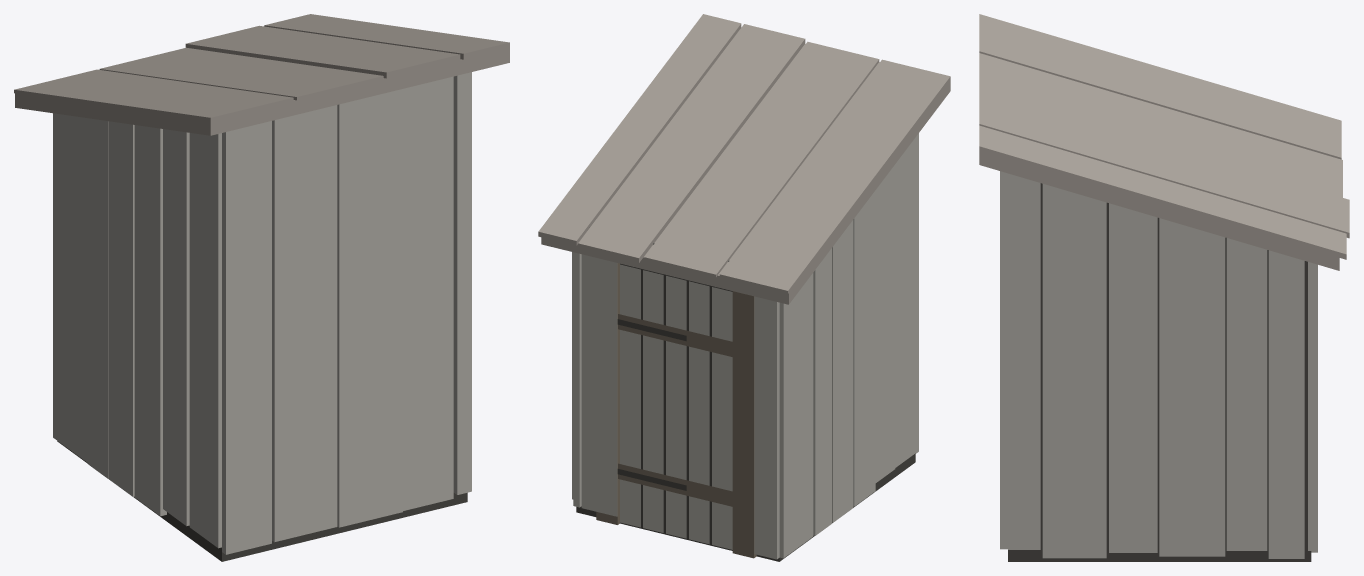
File: recon_1835_blk_indiana_north_wolcott_a3_08__inferred_1835.glb
3 renders of one model, left to right at view 1: azimuth 30°, elevation 25°; view 2: azimuth 150°, elevation 25°; view 3: azimuth 270°, elevation 25°, orthographic. The views are drawn at different scales.
Visible parts, largest first — view 1: recon_1835_blk_indiana_north_wolcott_a3_08__inferred_1835; view 2: recon_1835_blk_indiana_north_wolcott_a3_08__inferred_1835; view 3: recon_1835_blk_indiana_north_wolcott_a3_08__inferred_1835.
Part boxes in pixels (left/top/right/bottom): recon_1835_blk_indiana_north_wolcott_a3_08__inferred_1835: left=14, top=14, right=509, bottom=561; recon_1835_blk_indiana_north_wolcott_a3_08__inferred_1835: left=538, top=14, right=950, bottom=561; recon_1835_blk_indiana_north_wolcott_a3_08__inferred_1835: left=979, top=14, right=1349, bottom=561.
Bounding box in the file's own units: 1.85 × 2.75 × 2.15.
